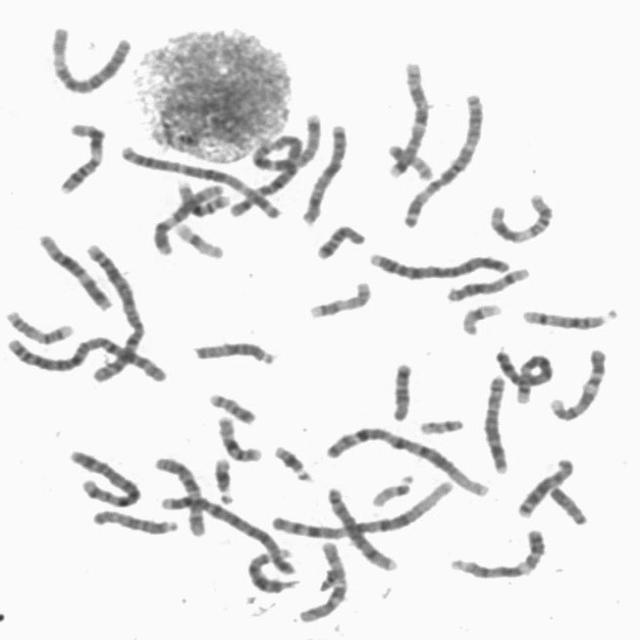A1: (321, 420, 494, 499), (264, 473, 456, 541)
A2: (79, 237, 150, 385), (1, 329, 174, 384)
A3: (115, 139, 288, 219), (397, 87, 488, 228)
B4: (159, 492, 303, 580), (364, 245, 516, 281)
B5: (64, 443, 144, 509), (488, 350, 556, 401)
C10: (149, 449, 211, 538), (294, 535, 352, 623)
C11: (54, 116, 109, 196), (485, 186, 557, 245)
C12: (33, 226, 116, 312), (148, 178, 230, 257)
C6: (228, 134, 313, 220), (45, 20, 137, 96)
C7: (384, 56, 434, 180), (254, 111, 326, 175)
C8: (324, 482, 401, 572), (479, 369, 513, 476)
C9: (446, 523, 550, 580), (546, 343, 610, 422)
D13: (513, 451, 579, 519), (244, 546, 302, 596)
D14: (443, 262, 534, 304), (518, 302, 622, 331)
D15: (88, 504, 184, 536), (189, 335, 282, 367)
E16: (212, 410, 266, 463), (170, 176, 232, 218)
E17: (1, 304, 78, 346), (304, 275, 375, 320)
E18: (312, 218, 370, 261), (386, 356, 416, 422)
F19: (170, 216, 228, 261), (458, 297, 506, 337)
F20: (383, 137, 438, 182), (204, 386, 260, 426)
G21: (269, 439, 317, 483), (209, 451, 238, 505)
G22: (366, 468, 418, 508), (414, 412, 468, 436)
X: (296, 117, 352, 226)
Y: (545, 480, 592, 526)
